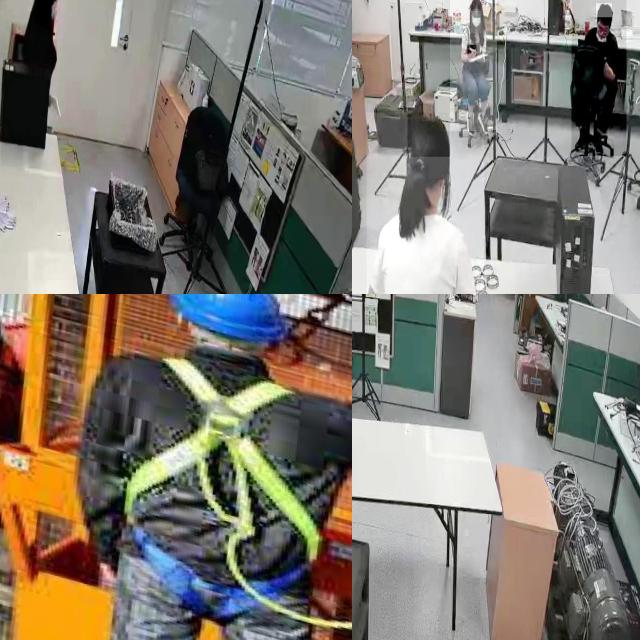Harness: (124, 358, 321, 562)
face_mask: (471, 11, 482, 33)
hand_noglove: (467, 45, 477, 59)
head_nohelmet: (408, 112, 450, 158), (596, 3, 612, 18), (469, 0, 482, 10)
person: (366, 112, 484, 294), (571, 0, 626, 156), (450, 0, 497, 131)
shoes: (590, 128, 606, 157), (476, 110, 492, 136)
